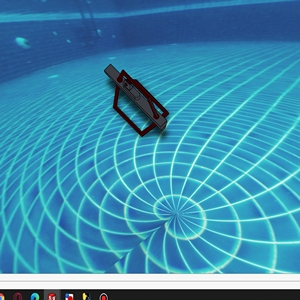submarine: (102, 61, 168, 131)
